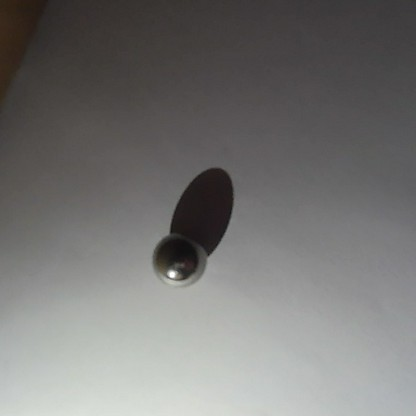ironball: (146, 230, 206, 291)
